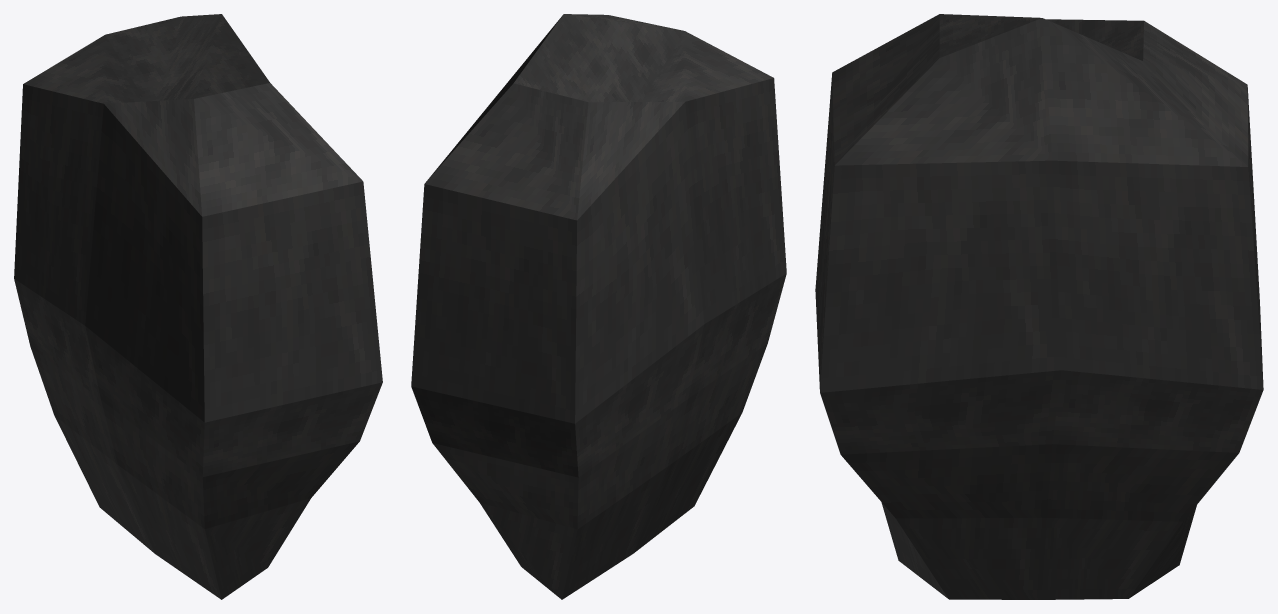
The model's file is vRock_02.glb.
The picture shows the model from 3 angles, left to right: view 1: azimuth 30°, elevation 25°; view 2: azimuth 150°, elevation 25°; view 3: azimuth 270°, elevation 25°; orthographic projection. The views are drawn at different scales.
Visible parts, largest first — view 1: vRockBig-col; view 2: vRockBig-col; view 3: vRockBig-col.
Part boxes in pixels (box(x1,y1,x2,y2)): vRockBig-col: box(14, 14, 382, 599); vRockBig-col: box(411, 14, 786, 599); vRockBig-col: box(815, 14, 1263, 599).
Bounding box in the file's own units: 2.06 × 4.9 × 3.43.
Materials: 1 (1 with a texture image).
